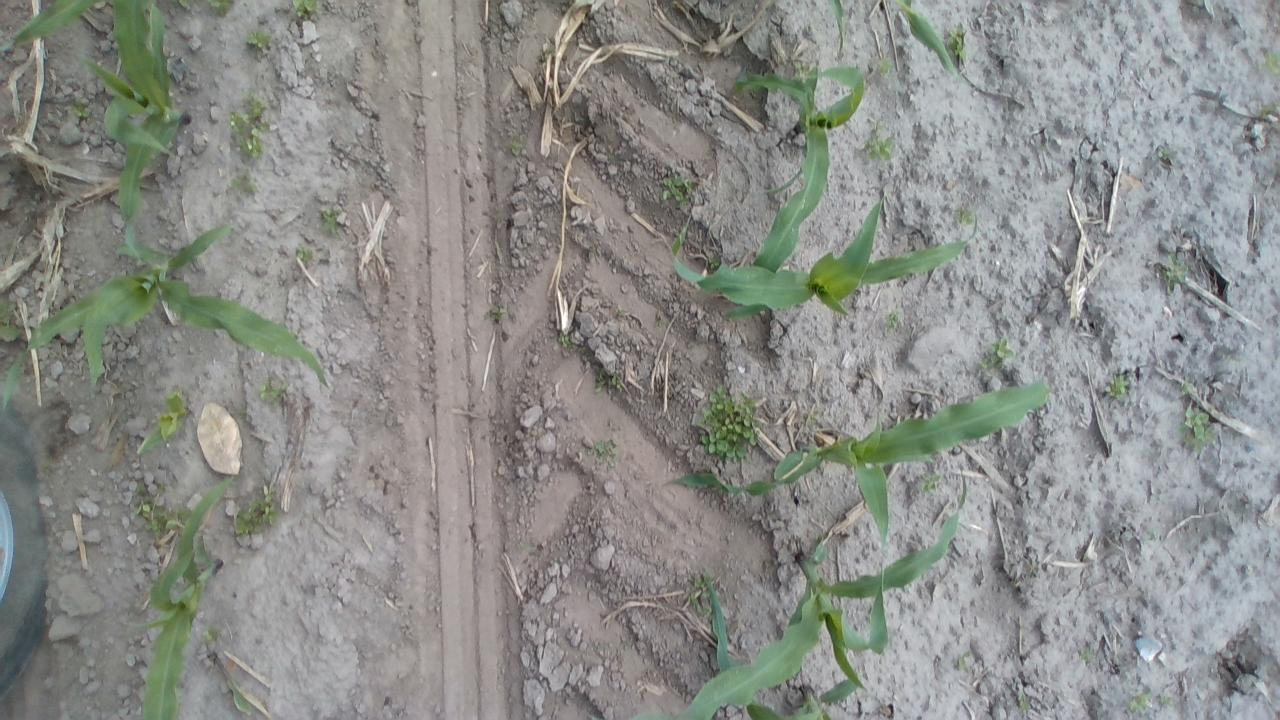Maize: (638, 478, 975, 718), (661, 376, 1058, 560), (0, 215, 328, 410), (660, 192, 979, 322), (724, 57, 872, 285), (634, 572, 860, 720), (82, 0, 195, 251), (132, 478, 232, 717), (890, 0, 981, 95), (5, 0, 134, 45), (203, 646, 270, 720), (826, 1, 851, 51)
Weeds: (697, 384, 761, 467), (226, 92, 269, 162), (142, 392, 190, 454), (232, 484, 280, 540), (135, 490, 189, 538), (1180, 405, 1218, 454), (1154, 253, 1192, 288), (661, 172, 695, 208), (255, 376, 292, 409), (942, 22, 972, 62), (861, 129, 896, 163), (980, 336, 1014, 371), (0, 291, 21, 347), (691, 571, 713, 618), (244, 22, 274, 56), (1102, 374, 1132, 402), (227, 173, 261, 196), (319, 202, 341, 237), (586, 439, 620, 461), (593, 369, 625, 392), (290, 0, 324, 20), (1128, 690, 1152, 716), (919, 470, 942, 495), (882, 308, 904, 332), (955, 650, 975, 676), (793, 57, 814, 80), (555, 329, 579, 349), (874, 54, 894, 78), (507, 132, 527, 156), (1261, 49, 1278, 77), (956, 208, 978, 228), (1152, 146, 1174, 166), (70, 102, 92, 122), (804, 404, 824, 425), (583, 241, 601, 263), (202, 626, 220, 647), (486, 304, 506, 322), (296, 246, 314, 264), (207, 0, 234, 12), (1076, 646, 1094, 664), (1016, 692, 1032, 710), (1158, 692, 1176, 708), (707, 252, 721, 270), (520, 538, 534, 556), (1178, 380, 1192, 397), (613, 306, 629, 320), (654, 317, 668, 330), (542, 44, 554, 57)
